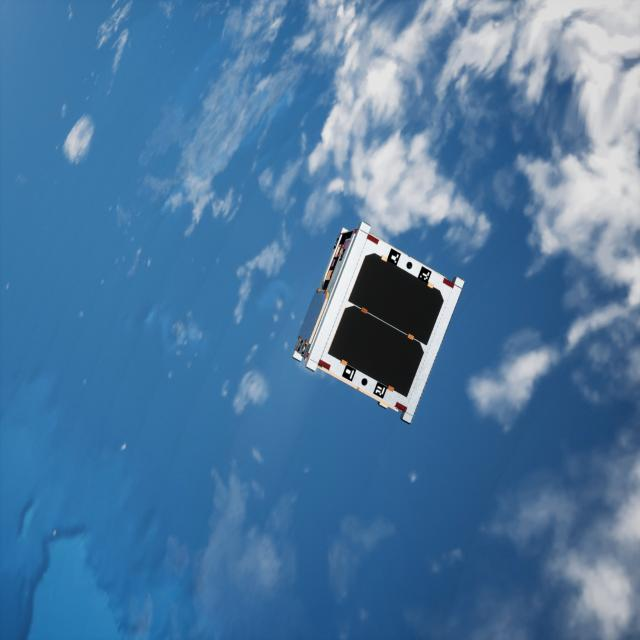satellite: (288, 219, 469, 423)
